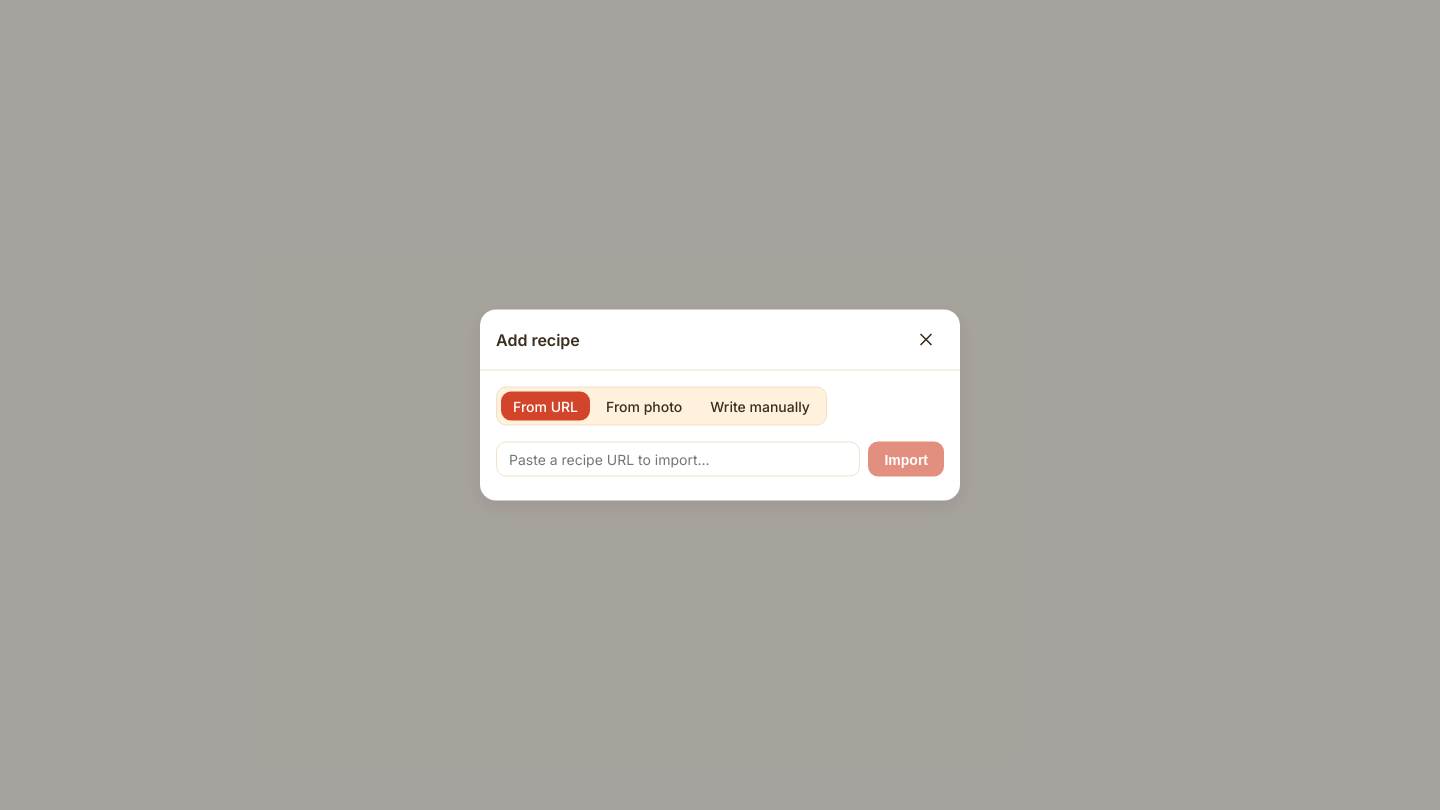
Test case: AddRecipeSheet › shows the backend detail message when the import request is rejected
Type "https://example.com/recipe" into the field with test id "import-url-input".
click(678, 459); type("https://example.com/recipe")  # box [496,442,860,476]
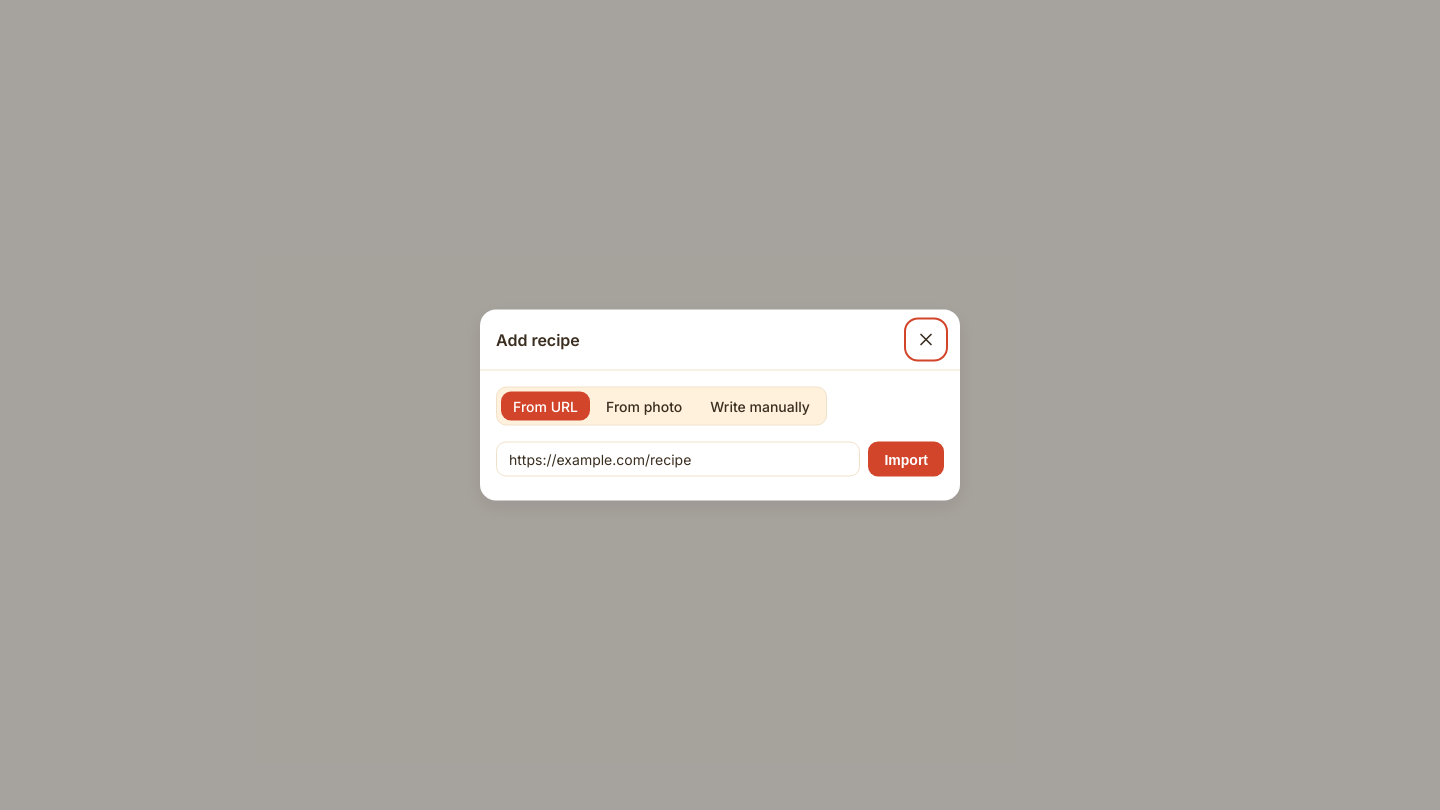
Click the button with test id "import-submit-btn".
click(906, 459)  # box [868,442,944,476]
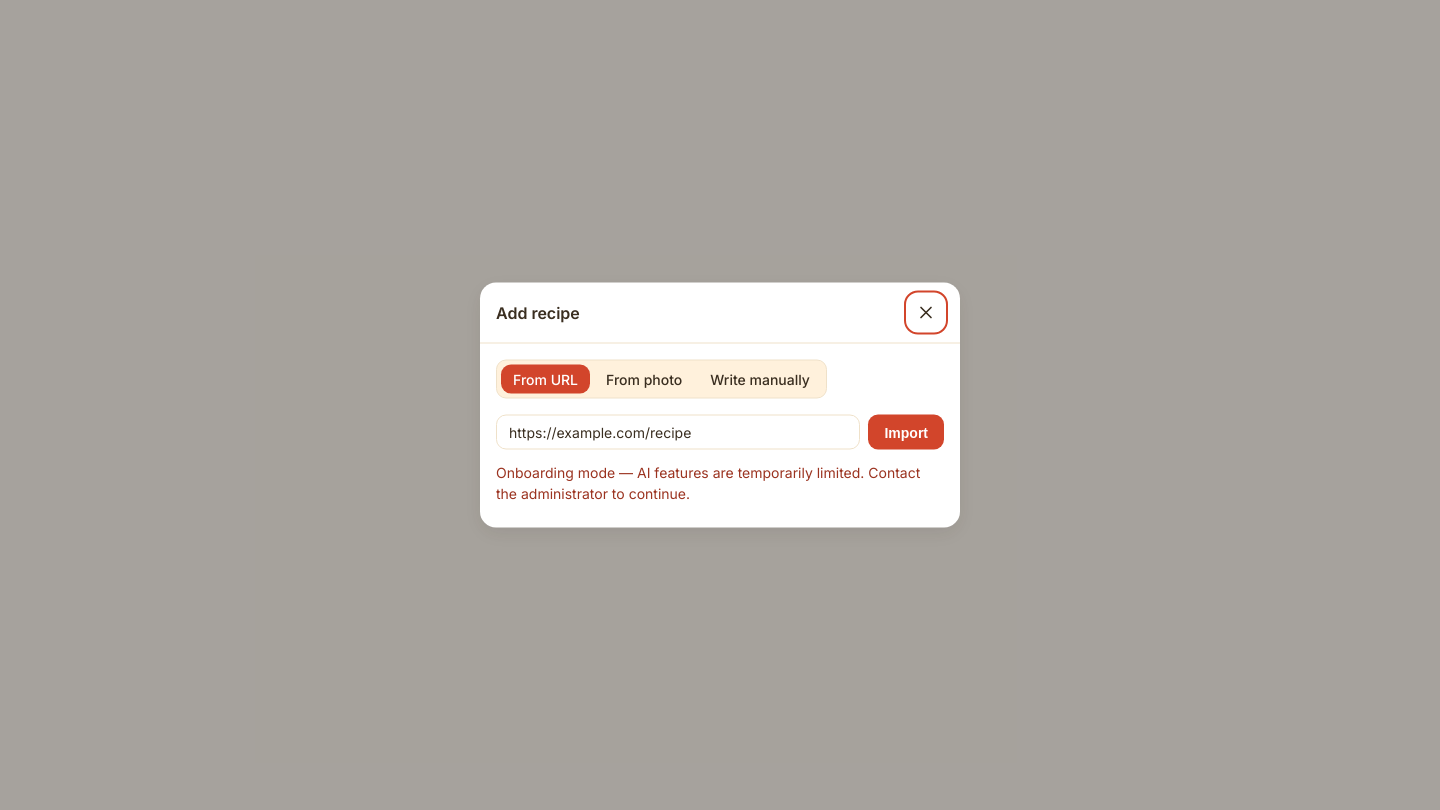
Now the text "Onboarding mode" is shown, box [496,464,920,502]
